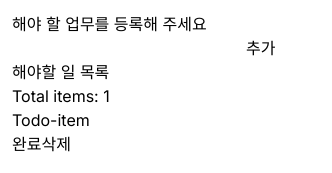
it: TodoProvider › Click complete, and check status being incompleted
Click the button "완료". click: (27, 144)
box: [12, 132, 42, 156]
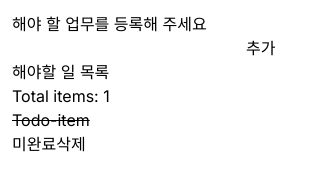
Now the button "미완료" is shown, box [12, 132, 56, 156]
